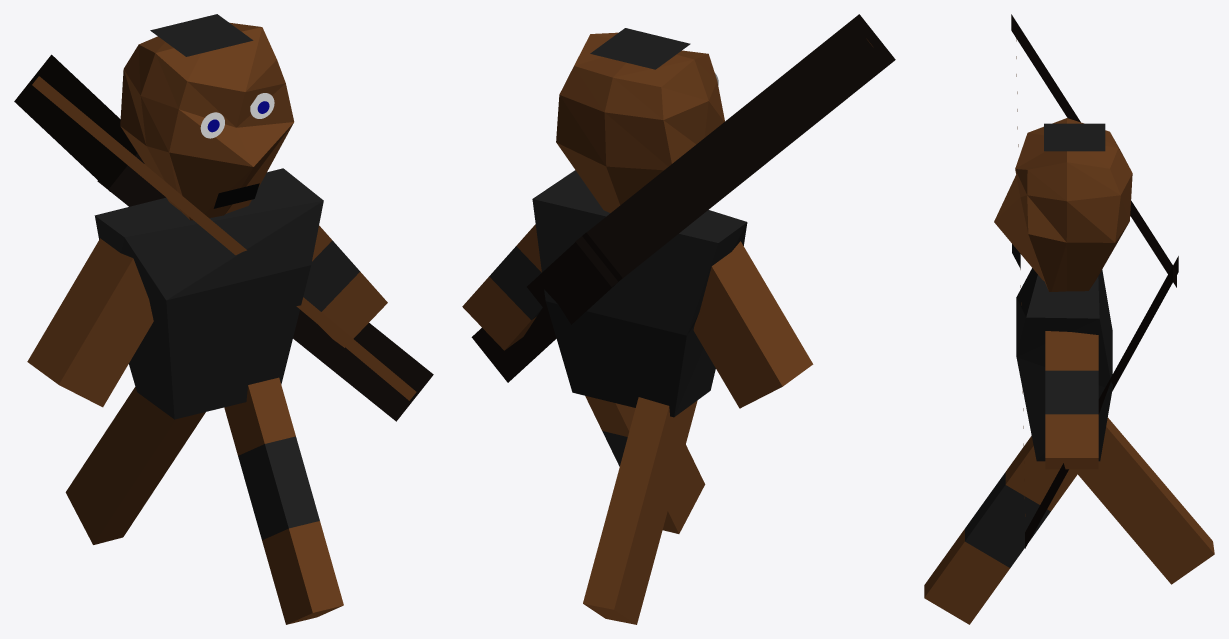
The model's file is archer3.obj.
3 views of the same model, side by side, from view 1: azimuth 30°, elevation 25°; view 2: azimuth 150°, elevation 25°; view 3: azimuth 270°, elevation 25° (orthographic). The views are drawn at different scales.
Visible parts, largest first — view 1: Cube.001, Cube, Cube.005, Cube.003, Cube.004, Plane.001_Plane.002, Plane.002_Plane.003, Plane.003_Plane.004, Cube.002, Plane.004_Plane.005, Plane; view 2: Cube.001, Plane.002_Plane.003, Cube, Cube.004, Cube.003, Plane.001_Plane.002, Cube.002, Cube.005, Plane.004_Plane.005; view 3: Cube, Cube.005, Cube.004, Cube.001, Cube.002, Plane.001_Plane.002, Plane.002_Plane.003, Plane.004_Plane.005.
Boxes of the visible parts, left/top/right/bottom form: Cube.001: left=94, top=168, right=323, bottom=419; Cube: left=120, top=22, right=294, bottom=220; Cube.005: left=224, top=377, right=343, bottom=624; Cube.003: left=27, top=238, right=153, bottom=407; Cube.004: left=65, top=387, right=205, bottom=544; Plane.001_Plane.002: left=97, top=153, right=433, bottom=421; Plane.002_Plane.003: left=14, top=54, right=137, bottom=191; Plane.003_Plane.004: left=32, top=76, right=416, bottom=400; Cube.002: left=303, top=225, right=387, bottom=347; Plane.004_Plane.005: left=150, top=14, right=253, bottom=56; Plane: left=213, top=183, right=259, bottom=208; Cube.001: left=532, top=170, right=747, bottom=417; Plane.002_Plane.003: left=575, top=14, right=895, bottom=286; Cube: left=556, top=32, right=724, bottom=212; Cube.004: left=583, top=397, right=697, bottom=624; Cube.003: left=693, top=241, right=813, bottom=408; Plane.001_Plane.002: left=471, top=232, right=622, bottom=382; Cube.002: left=462, top=224, right=542, bottom=350; Cube.005: left=585, top=395, right=705, bottom=533; Plane.004_Plane.005: left=590, top=28, right=690, bottom=69; Cube: left=994, top=118, right=1132, bottom=291; Cube.005: left=924, top=436, right=1080, bottom=624; Cube.004: left=1078, top=417, right=1214, bottom=584; Cube.001: left=1016, top=268, right=1112, bottom=461; Cube.002: left=1045, top=331, right=1098, bottom=469; Plane.001_Plane.002: left=1025, top=256, right=1178, bottom=548; Plane.002_Plane.003: left=1011, top=14, right=1176, bottom=287; Plane.004_Plane.005: left=1044, top=123, right=1105, bottom=151.
Bounding box in the file's own units: 1.06 × 1.43 × 0.7387.
